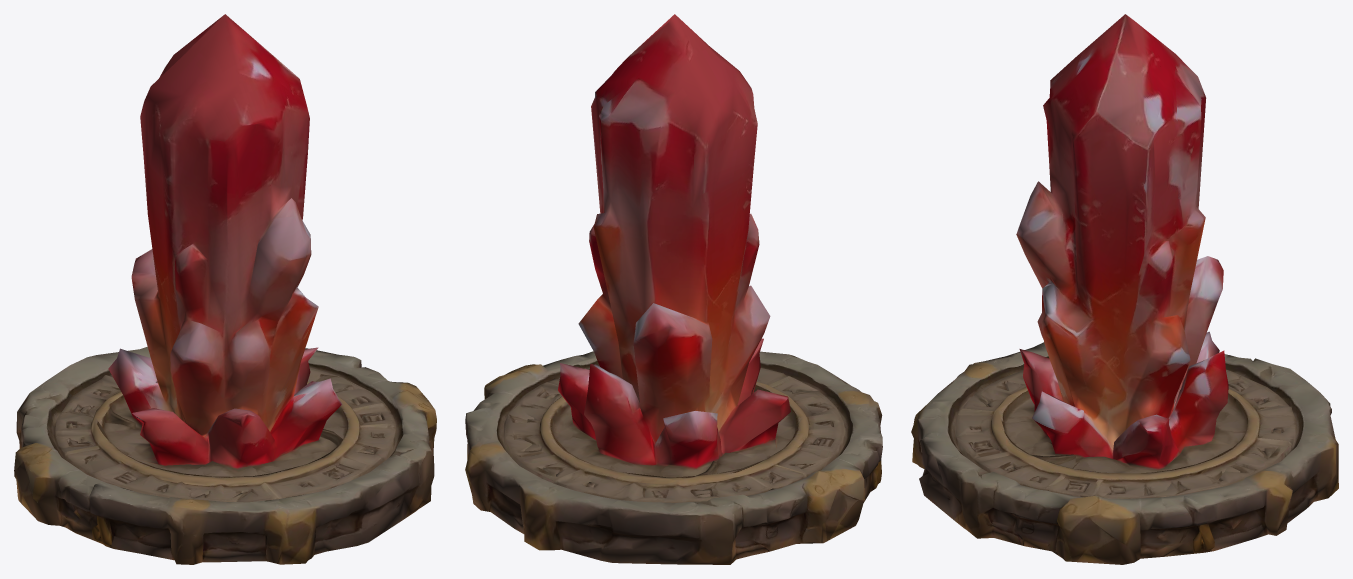
File: spire_red.glb
3 renders of one model, left to right at view 1: azimuth 30°, elevation 25°; view 2: azimuth 150°, elevation 25°; view 3: azimuth 270°, elevation 25°, orthographic.
Visible parts, largest first — view 1: tripo_node_0a26477d-6adc-4baf-b935-f9db2225d328; view 2: tripo_node_0a26477d-6adc-4baf-b935-f9db2225d328; view 3: tripo_node_0a26477d-6adc-4baf-b935-f9db2225d328.
Boxes of the visible parts, x1,y1,x2,y2 form: tripo_node_0a26477d-6adc-4baf-b935-f9db2225d328: [14, 14, 436, 564]; tripo_node_0a26477d-6adc-4baf-b935-f9db2225d328: [465, 14, 882, 564]; tripo_node_0a26477d-6adc-4baf-b935-f9db2225d328: [911, 14, 1338, 564].
Size of the model in its own units: 0.8597 by 1 by 0.8403.
Materials: 1 (1 with a texture image).
